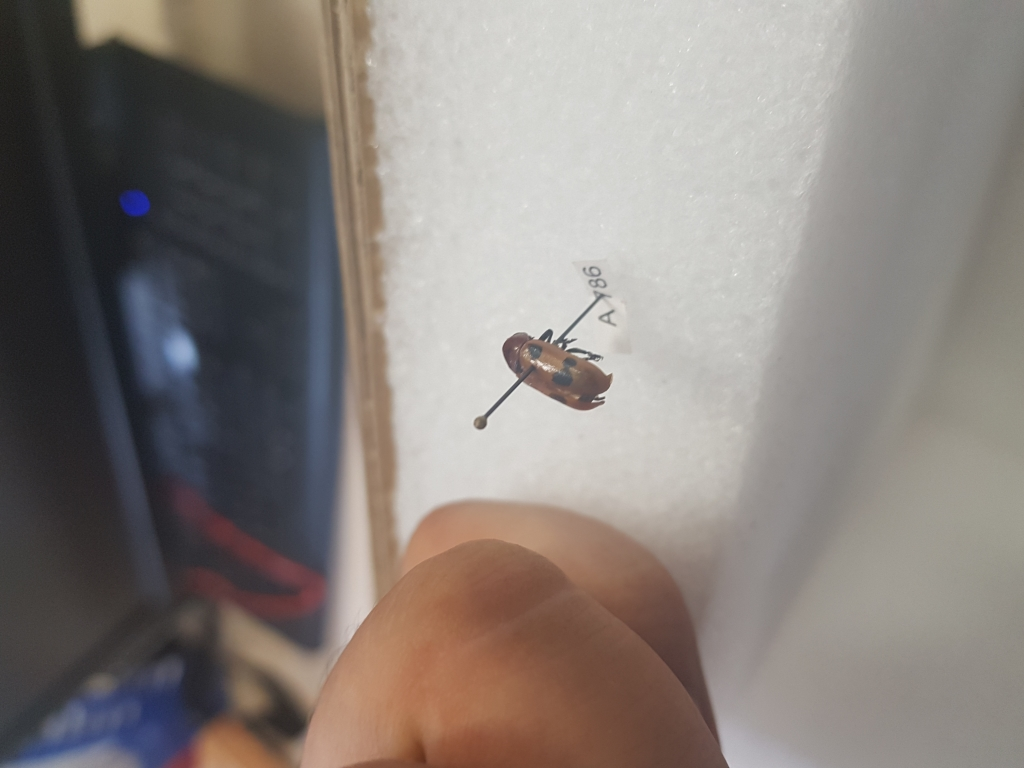Clytra_novempunctata: (499, 327, 619, 414)
